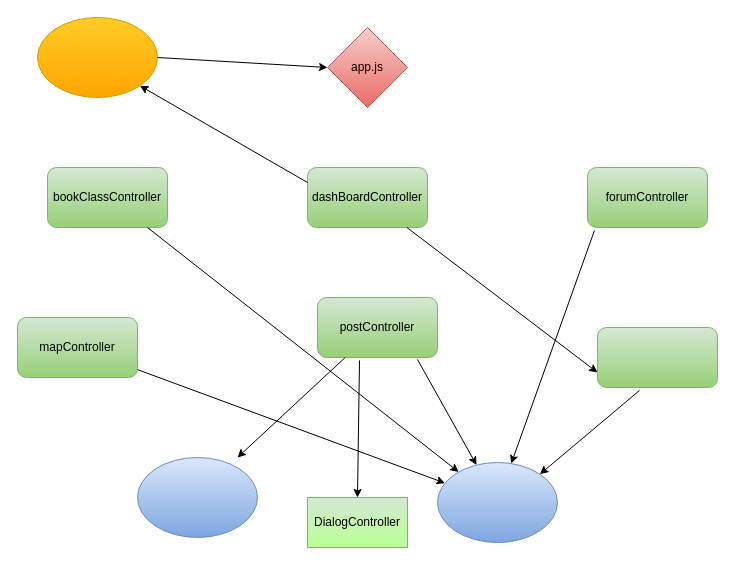
This 735x565 diagram has some shape labels left out. The centre of each missing label's shape, as x and y in pixels:
"authenticationService" goes at (497,502).
"config mdThemingProvider" goes at (97,57).
"postService" goes at (197,497).
"registrationController" goes at (657,357).
